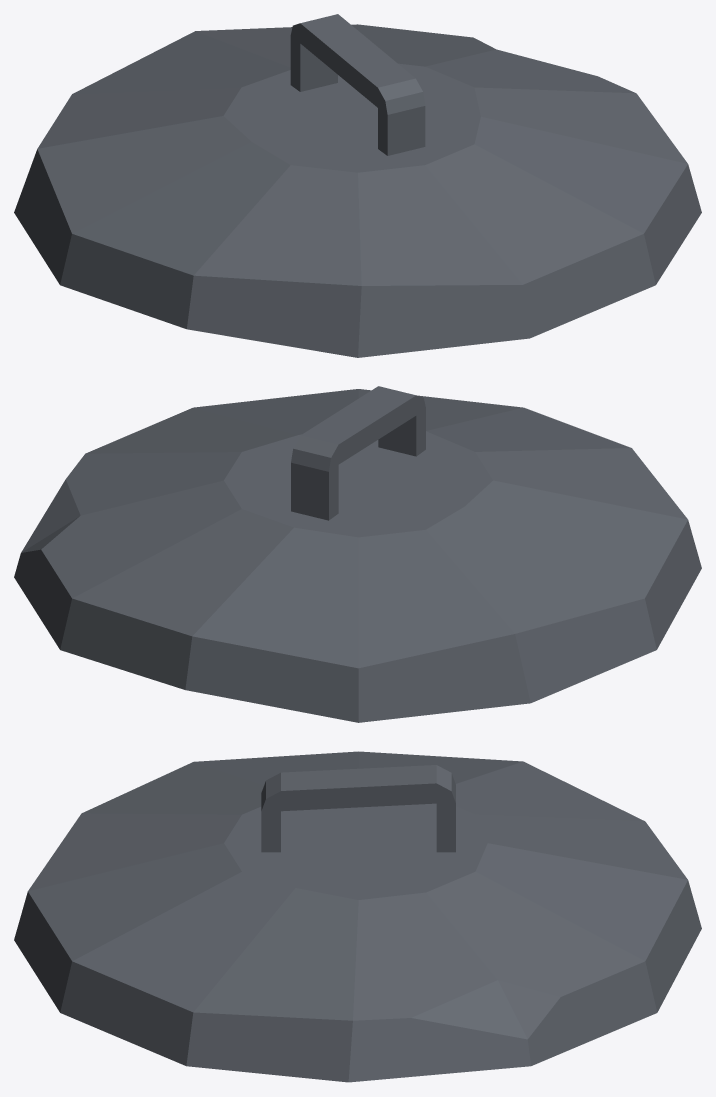
The model's file is SM_Prop_TrashCan_Lid_01.fbx.
The picture shows the model from 3 angles, top to bottom: view 1: azimuth 30°, elevation 25°; view 2: azimuth 150°, elevation 25°; view 3: azimuth 270°, elevation 25°; orthographic projection.
Visible parts, largest first — view 1: SM_Prop_TrashCan_Lid_01; view 2: SM_Prop_TrashCan_Lid_01; view 3: SM_Prop_TrashCan_Lid_01.
Part boxes in pixels (<box>): SM_Prop_TrashCan_Lid_01: <box>14,14,701,357</box>; SM_Prop_TrashCan_Lid_01: <box>14,386,701,722</box>; SM_Prop_TrashCan_Lid_01: <box>14,751,701,1082</box>.
Size of the model in its own units: 76.82 by 20.23 by 76.02.
